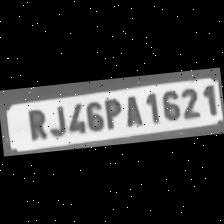1: (142, 90, 162, 126), (200, 83, 219, 117)
2: (178, 86, 202, 120)
4: (64, 100, 86, 136)
6: (157, 88, 180, 122), (83, 99, 104, 134)
A: (121, 94, 145, 128)
J: (45, 102, 68, 138)
P: (100, 96, 124, 130)
R: (21, 106, 49, 142)
